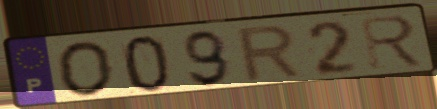0: (120, 34, 173, 94)
2: (304, 19, 361, 78)
9: (182, 28, 235, 89)
O: (54, 39, 117, 99)
R: (235, 22, 306, 86), (357, 13, 428, 71)
